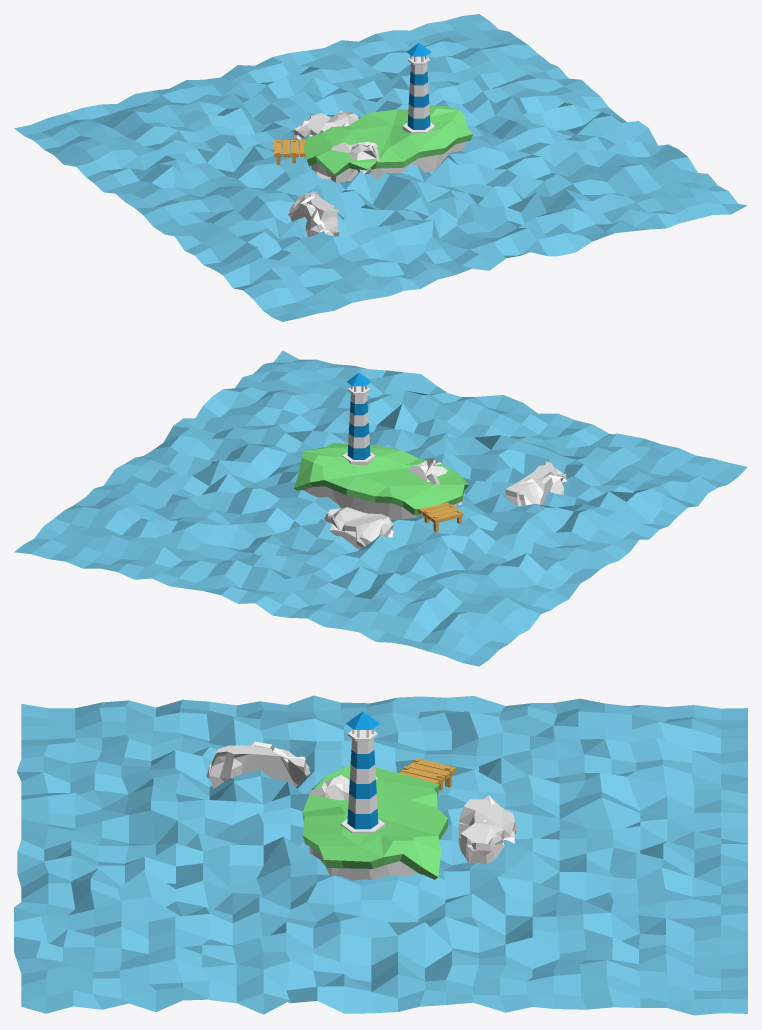
File: lighthouse.fbx
3 views of the same model, one above another, from view 1: azimuth 30°, elevation 25°; view 2: azimuth 150°, elevation 25°; view 3: azimuth 270°, elevation 25° (orthographic). The views are drawn at different scales.
Visible parts, largest first — view 1: Grid, Grid.002, Circle, Grid.001, Grid.004, Grid.006, Grid.005, Grid.008; view 2: Grid, Grid.002, Circle, Grid.001, Grid.004, Grid.005, Grid.006, Grid.003; view 3: Grid, Grid.002, Circle, Grid.005, Grid.004, Grid.001, Grid.003.
Part boxes in pixels (x1,y1,x2,y2): Grid: (14,14,747,321); Grid.002: (304,105,472,176); Circle: (402,56,435,132); Grid.001: (311,142,465,182); Grid.004: (292,110,360,138); Grid.006: (289,193,333,237); Grid.005: (288,191,339,236); Grid.008: (311,142,379,179); Grid: (14,350,747,666); Grid.002: (294,443,468,514); Circle: (342,386,375,465); Grid.001: (304,486,458,519); Grid.004: (324,507,393,547); Grid.005: (505,461,562,506); Grid.006: (516,473,567,505); Grid.003: (324,511,393,548); Grid: (14,695,747,1015); Grid.002: (302,765,447,879); Circle: (340,730,384,833); Grid.005: (209,745,310,788); Grid.004: (458,798,517,856); Grid.001: (309,796,417,880); Grid.003: (458,795,514,863).
Bounding box in the file's own units: 3293 × 912 × 3323.
